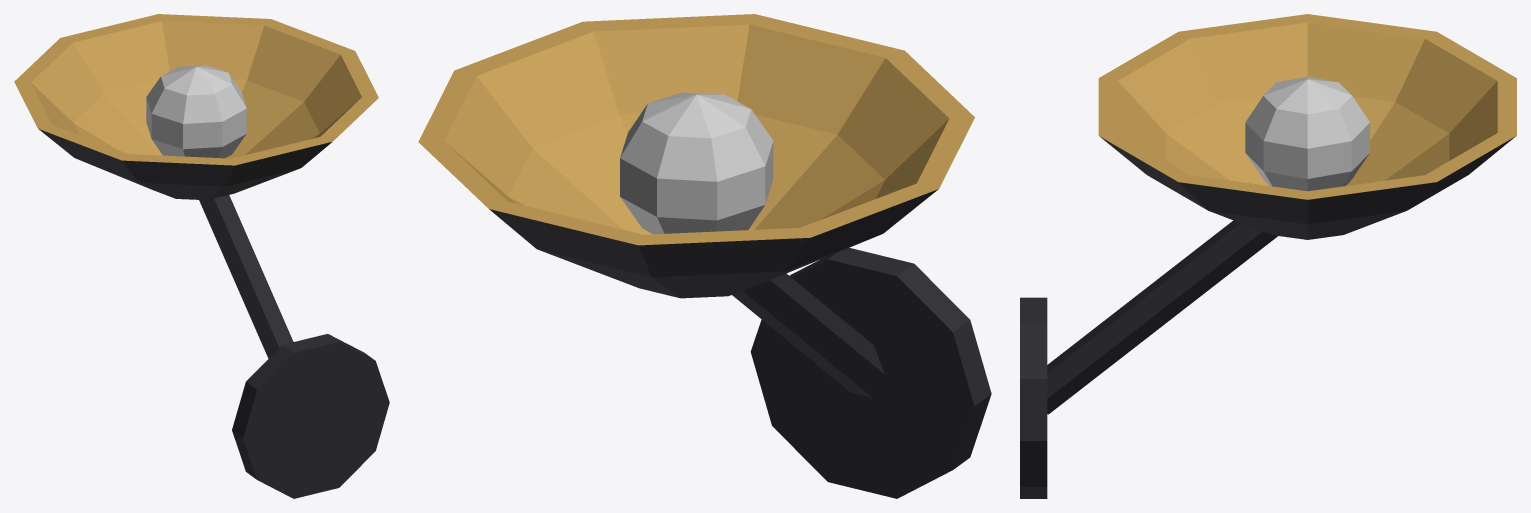
File: FN_Lamp_Wall.obj
3 renders of one model, left to right at view 1: azimuth 30°, elevation 25°; view 2: azimuth 150°, elevation 25°; view 3: azimuth 270°, elevation 25°, orthographic. The views are drawn at different scales.
Parts seen in each view (by area): view 1: FN_Lamp_Wall; view 2: FN_Lamp_Wall; view 3: FN_Lamp_Wall.
Part boxes in pixels (box(x1,y1,x2,y2)): FN_Lamp_Wall: box(14, 14, 389, 498); FN_Lamp_Wall: box(418, 14, 991, 498); FN_Lamp_Wall: box(1020, 14, 1516, 498).
Size of the model in its own units: 0.26 by 0.2651 by 0.2936.
Materials: 2 (1 with a texture image).
